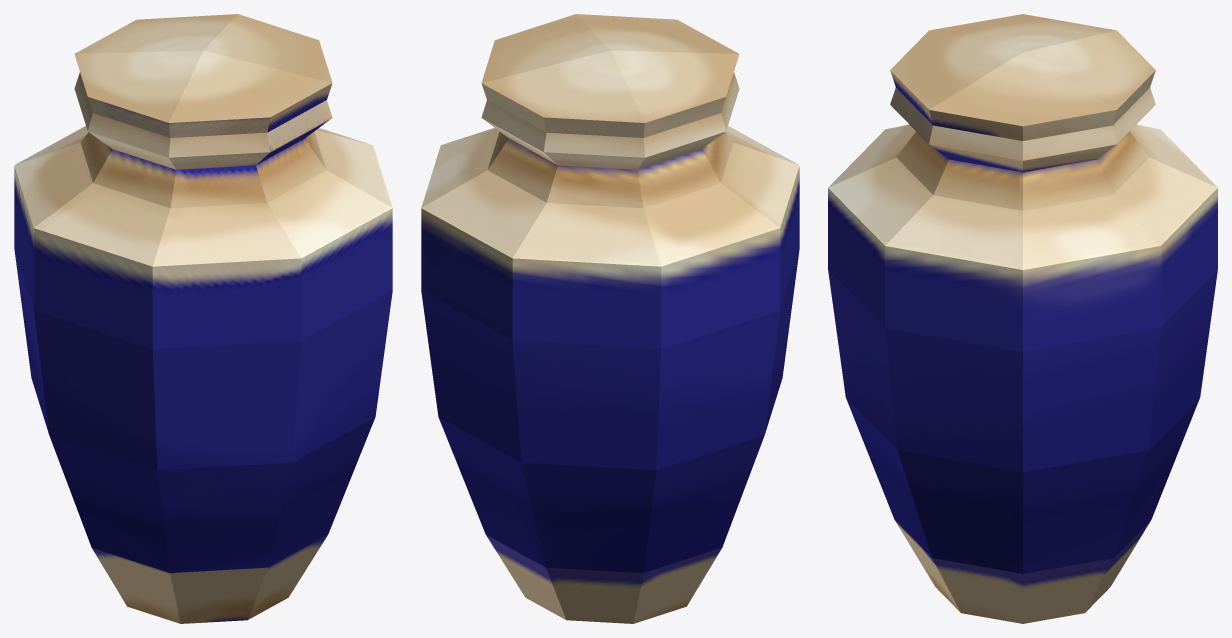
The model's file is burialUrn.fbx.
3 renders of one model, left to right at view 1: azimuth 30°, elevation 25°; view 2: azimuth 150°, elevation 25°; view 3: azimuth 270°, elevation 25°, orthographic.
Parts seen in each view (by area): view 1: urna; view 2: urna; view 3: urna.
Part boxes in pixels (x1=…): urna: x1=14, y1=14, x2=392, y2=623; urna: x1=421, y1=14, x2=799, y2=623; urna: x1=828, y1=14, x2=1217, y2=623.
Bounding box in the file's own units: 127 × 191 × 127.
